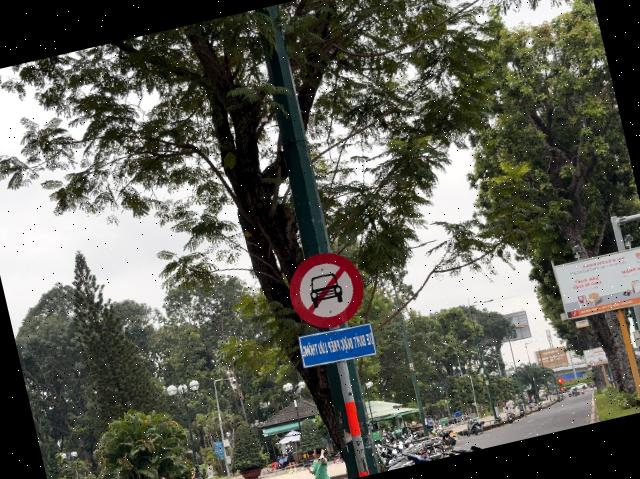cam-o-to: (282, 245, 370, 335)
